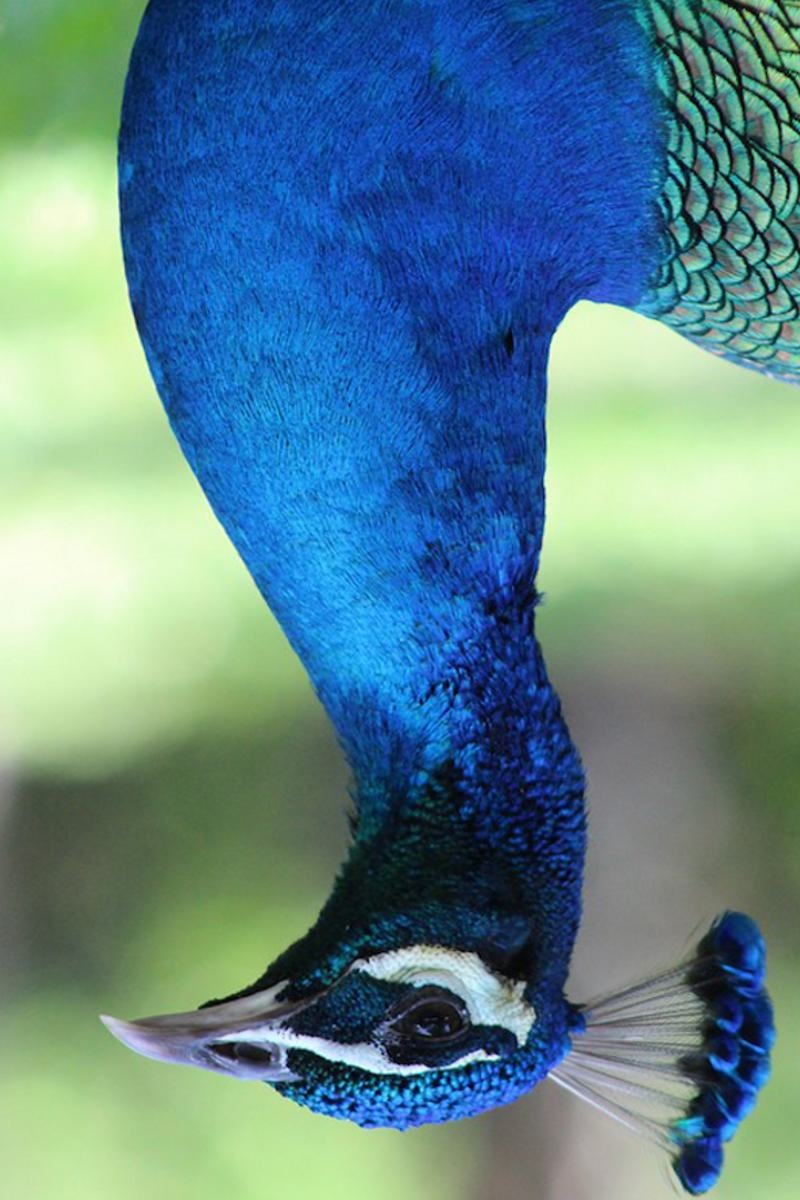peacock: (127, 49, 800, 1125)
